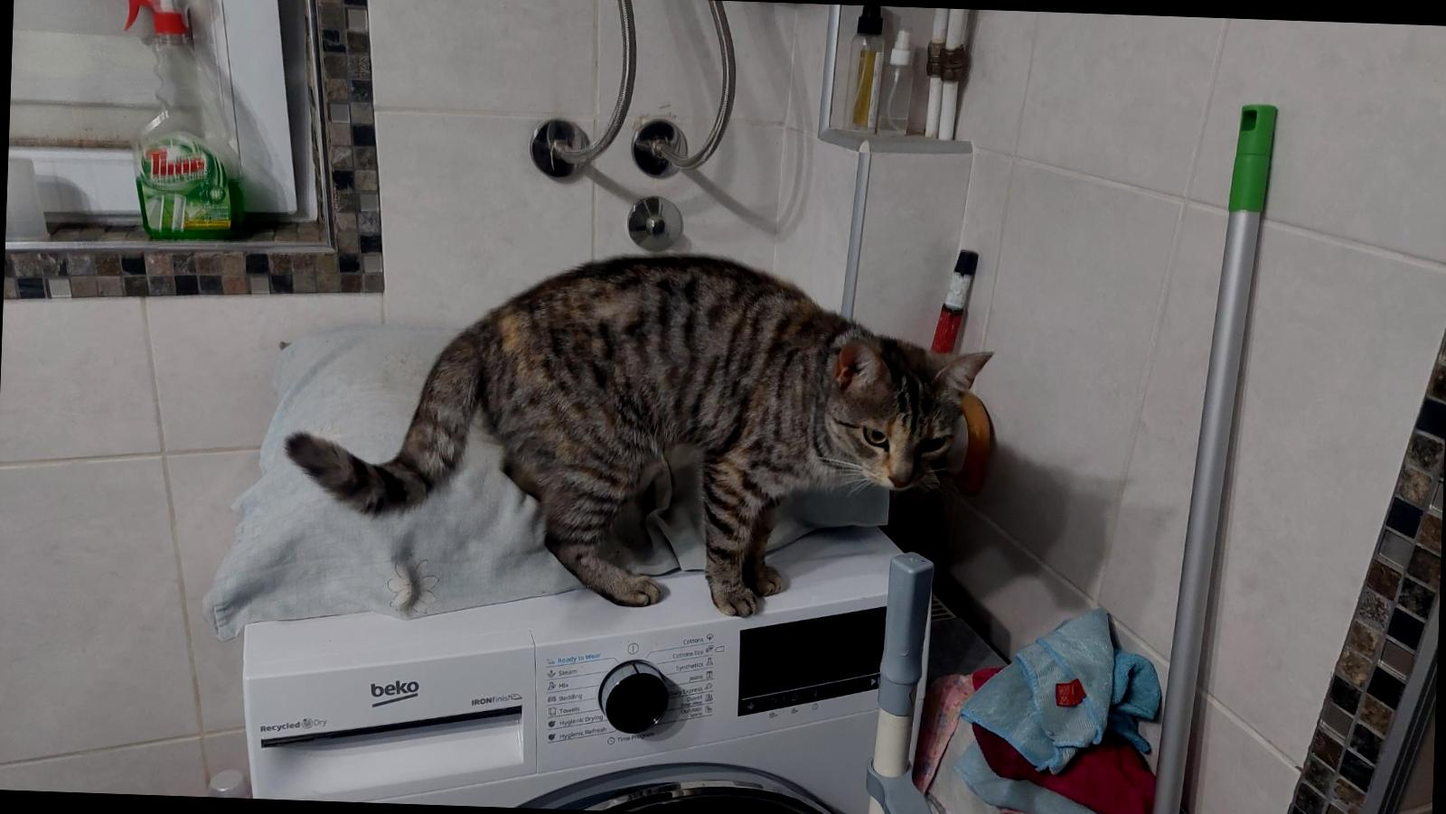macka: (281, 240, 1000, 627)
